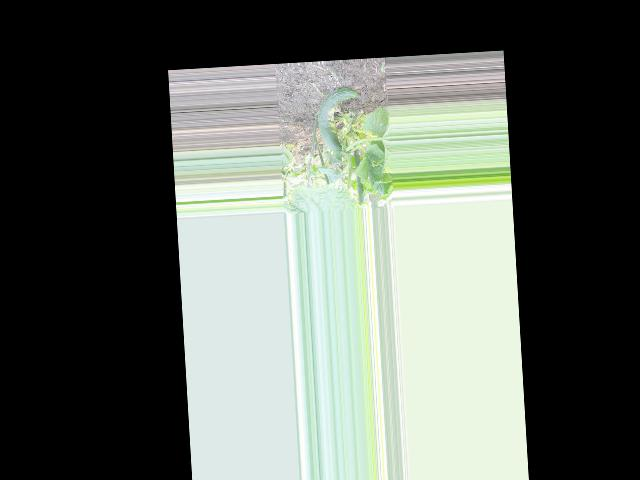cucumber: (315, 87, 361, 154)
